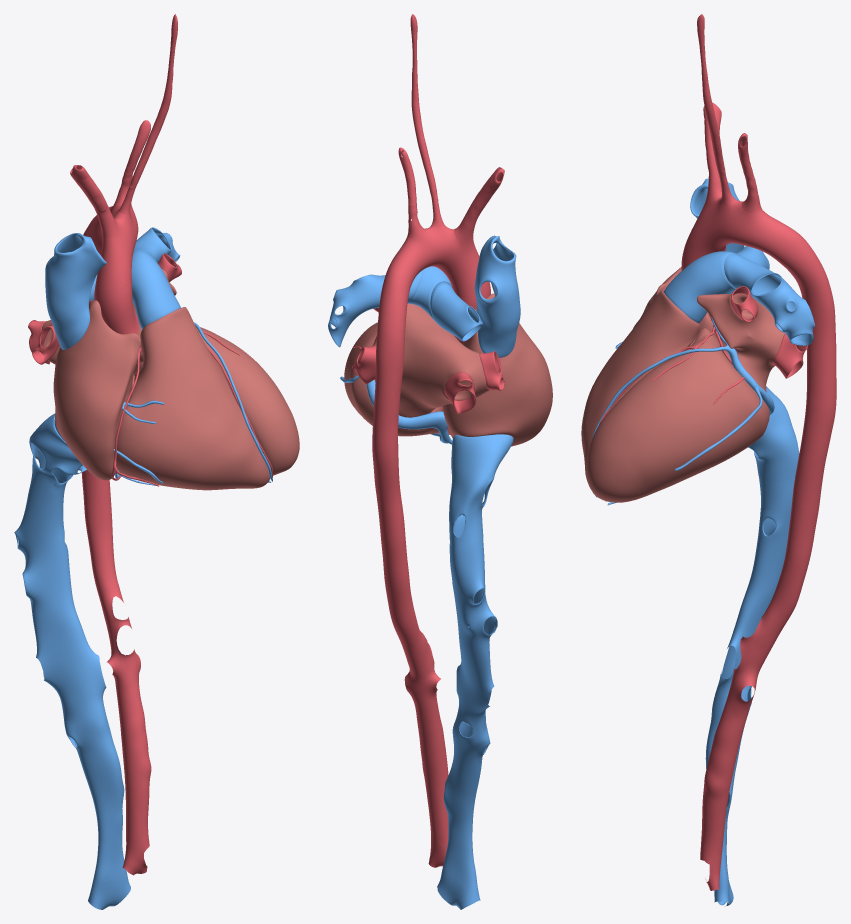
File: human_heart_nih.glb
3 renders of one model, left to right at view 1: azimuth 30°, elevation 25°; view 2: azimuth 150°, elevation 25°; view 3: azimuth 270°, elevation 25°, orthographic. The views are drawn at different scales.
Visible parts, largest first — view 1: VHM_heart_right_ventricle, VHM_inferior_vena_cava_b, VHM_right_cardiac_atrium, VHM_descending_aorta_b, VHM_heart_left_ventricle, VHM_superior_vena_cava, VHM_inferior_vena_cava_a, VHM_aortic_arch, VHM_pulmonary_trunk, VHM_ascending_aorta, VHM_left_common_carotid_artery_b, VHM_pulmonary_artery_L (+3 smaller); view 2: VHM_inferior_vena_cava_b, VHM_descending_aorta_b, VHM_right_cardiac_atrium, VHM_descending_aorta_a, VHM_left_cardiac_atrium, VHM_inferior_vena_cava_a, VHM_aortic_arch, VHM_superior_vena_cava, VHM_pulmonary_artery_L, VHM_pulmonary_artery_R, VHM_heart_left_ventricle, VHM_left_common_carotid_artery_b (+7 smaller); view 3: VHM_heart_left_ventricle, VHM_descending_aorta_b, VHM_descending_aorta_a, VHM_inferior_vena_cava_b, VHM_heart_right_ventricle, VHM_aortic_arch, VHM_left_cardiac_atrium, VHM_pulmonary_artery_L, VHM_inferior_vena_cava_a, VHM_pulmonary_trunk, VHM_left_common_carotid_artery_b, VHM_pulmonary_vein_L_inf (+5 smaller).
Part boxes in pixels (x1=…): VHM_heart_right_ventricle: x1=114, y1=307, x2=270, y2=490; VHM_inferior_vena_cava_b: x1=14, y1=491, x2=130, y2=909; VHM_right_cardiac_atrium: x1=53, y1=300, x2=140, y2=480; VHM_descending_aorta_b: x1=81, y1=471, x2=151, y2=875; VHM_heart_left_ventricle: x1=134, y1=327, x2=299, y2=475; VHM_superior_vena_cava: x1=45, y1=233, x2=106, y2=349; VHM_inferior_vena_cava_a: x1=29, y1=413, x2=86, y2=504; VHM_aortic_arch: x1=87, y1=202, x2=138, y2=290; VHM_pulmonary_trunk: x1=131, y1=250, x2=180, y2=329; VHM_ascending_aorta: x1=94, y1=280, x2=139, y2=334; VHM_left_common_carotid_artery_b: x1=129, y1=14, x2=177, y2=188; VHM_pulmonary_artery_L: x1=134, y1=227, x2=180, y2=262; VHM_inferior_vena_cava_b: x1=437, y1=539, x2=497, y2=909; VHM_descending_aorta_b: x1=380, y1=533, x2=448, y2=867; VHM_right_cardiac_atrium: x1=442, y1=293, x2=552, y2=446; VHM_descending_aorta_a: x1=372, y1=291, x2=407, y2=539; VHM_left_cardiac_atrium: x1=372, y1=303, x2=489, y2=417; VHM_inferior_vena_cava_a: x1=449, y1=434, x2=513, y2=546; VHM_aortic_arch: x1=381, y1=225, x2=488, y2=301; VHM_superior_vena_cava: x1=474, y1=235, x2=520, y2=357; VHM_pulmonary_artery_L: x1=328, y1=271, x2=421, y2=347; VHM_pulmonary_artery_R: x1=430, y1=281, x2=483, y2=341; VHM_heart_left_ventricle: x1=344, y1=322, x2=442, y2=436; VHM_left_common_carotid_artery_b: x1=410, y1=14, x2=437, y2=198; VHM_heart_left_ventricle: x1=586, y1=327, x2=769, y2=502; VHM_descending_aorta_b: x1=700, y1=502, x2=819, y2=890; VHM_descending_aorta_a: x1=789, y1=247, x2=836, y2=508; VHM_inferior_vena_cava_b: x1=705, y1=477, x2=794, y2=906; VHM_heart_right_ventricle: x1=581, y1=290, x2=699, y2=488; VHM_aortic_arch: x1=685, y1=196, x2=810, y2=271; VHM_left_cardiac_atrium: x1=697, y1=293, x2=784, y2=392; VHM_pulmonary_artery_L: x1=724, y1=253, x2=814, y2=345; VHM_inferior_vena_cava_a: x1=748, y1=386, x2=799, y2=481; VHM_pulmonary_trunk: x1=664, y1=251, x2=742, y2=323; VHM_left_common_carotid_artery_b: x1=697, y1=14, x2=725, y2=177; VHM_pulmonary_vein_L_inf: x1=772, y1=333, x2=808, y2=378.
Bounding box in the file's own units: 0.1244 × 0.5142 × 0.1288.
